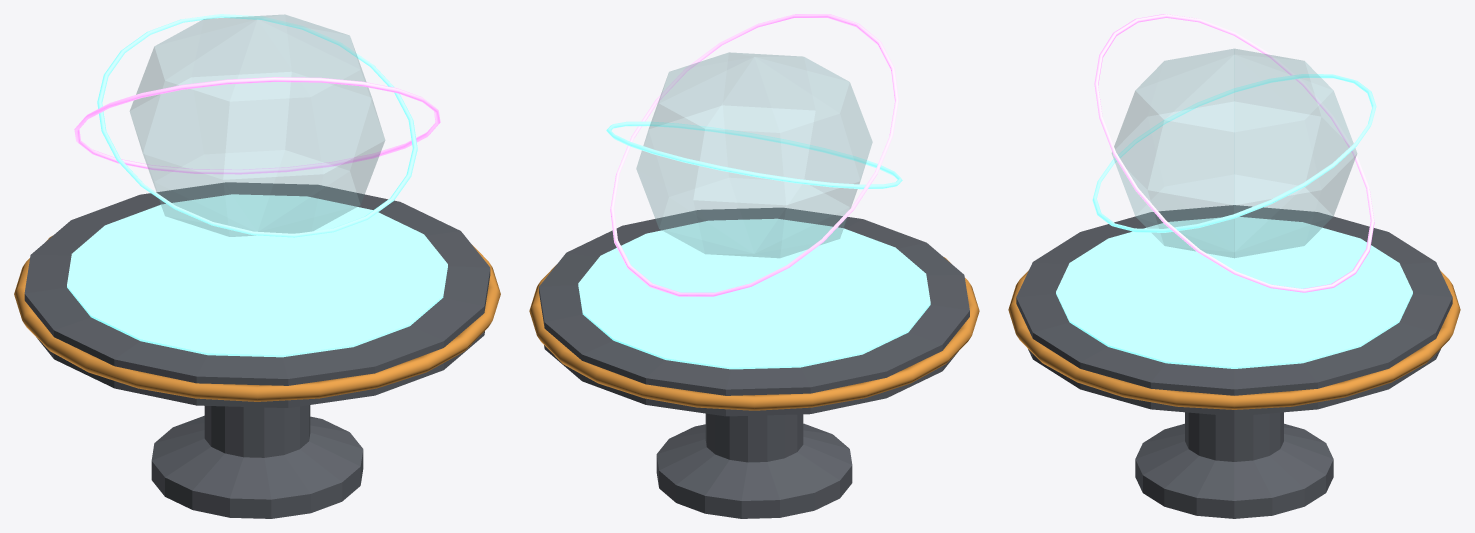
File: holo_table.glb
The picture shows the model from 3 angles, left to right: view 1: azimuth 30°, elevation 25°; view 2: azimuth 150°, elevation 25°; view 3: azimuth 270°, elevation 25°; orthographic projection. The views are drawn at different scales.
Visible parts, largest first — view 1: holo_table, spin0; view 2: holo_table, spin0; view 3: holo_table, spin0.
Boxes of the visible parts, x1=… form: holo_table: x1=14, y1=182, x2=500, y2=518; spin0: x1=74, y1=14, x2=440, y2=237; holo_table: x1=529, y1=207, x2=979, y2=518; spin0: x1=606, y1=14, x2=902, y2=296; holo_table: x1=1008, y1=205, x2=1460, y2=518; spin0: x1=1092, y1=14, x2=1376, y2=292.
Size of the model in its own units: 2.28 by 2.35 by 2.28.
